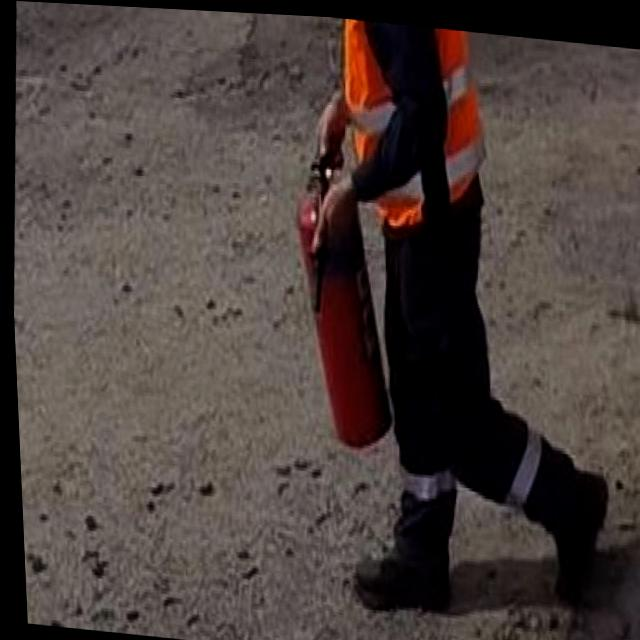FireExtinguisher: (276, 130, 409, 457)
